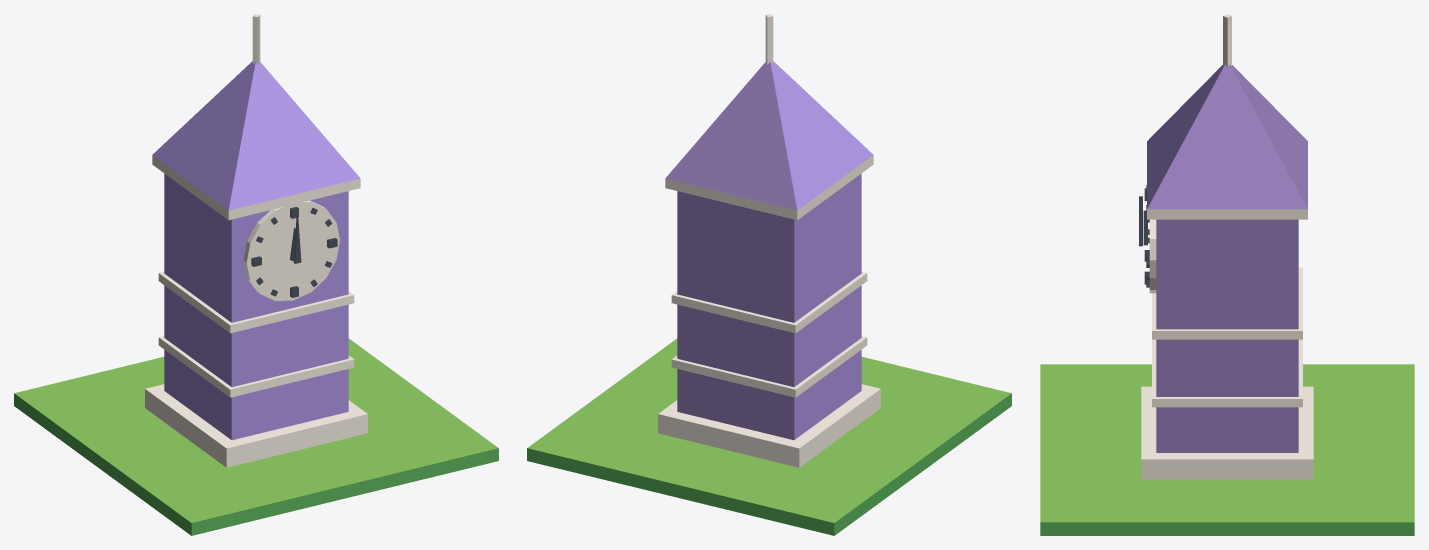
File: skill_measure_clocktower_t2.glb
3 views of the same model, side by side, from view 1: azimuth 30°, elevation 25°; view 2: azimuth 150°, elevation 25°; view 3: azimuth 270°, elevation 25° (orthographic). The views are drawn at different scales.
Parts seen in each view (by area): view 1: tower, base, clock_face; view 2: tower, base; view 3: tower, base, clock_face.
Boxes of the visible parts, left/top/right/bottom form: tower: left=145, top=14, right=367, bottom=467; base: left=14, top=338, right=498, bottom=535; clock_face: left=243, top=200, right=339, bottom=300; tower: left=658, top=14, right=880, bottom=467; base: left=527, top=338, right=1011, bottom=535; tower: left=1141, top=14, right=1313, bottom=479; base: left=1040, top=364, right=1414, bottom=535; clock_face: left=1144, top=185, right=1156, bottom=293.
Bounding box in the file's own units: 1 × 1.3 × 1.
